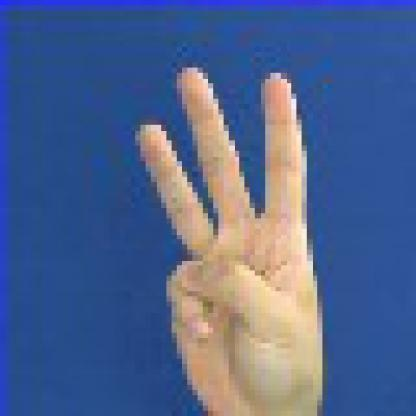three: (130, 51, 331, 415)
